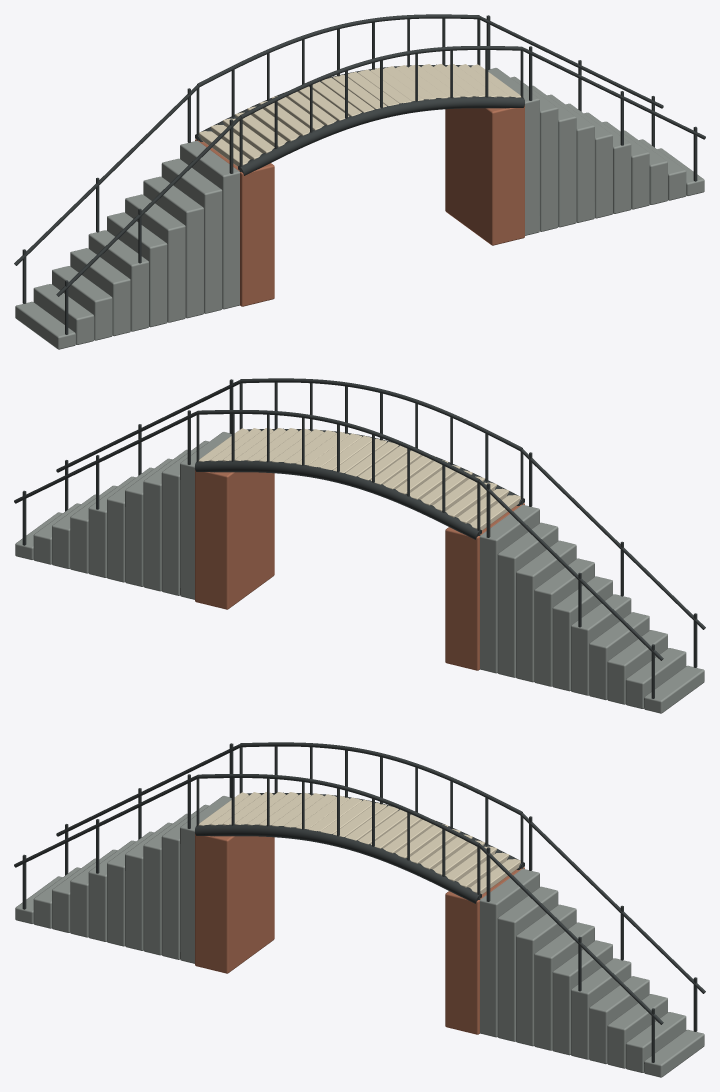
Rendered from canal-boats-and-lock-operations-canal-boats-and-lock-o-0ff5b182.glb.
3 renders of one model, top to bottom at view 1: azimuth 30°, elevation 25°; view 2: azimuth 150°, elevation 25°; view 3: azimuth 330°, elevation 25°, orthographic.
Visible parts, largest first — view 1: canal-boats-and-lock-operations-canal-footbridge; view 2: canal-boats-and-lock-operations-canal-footbridge; view 3: canal-boats-and-lock-operations-canal-footbridge.
Part boxes in pixels (box(x1,y1,x2,y2)): canal-boats-and-lock-operations-canal-footbridge: box(14, 14, 705, 349); canal-boats-and-lock-operations-canal-footbridge: box(14, 378, 705, 713); canal-boats-and-lock-operations-canal-footbridge: box(14, 742, 705, 1077).
Size of the model in its own units: 10.63 by 3.36 by 1.39.
